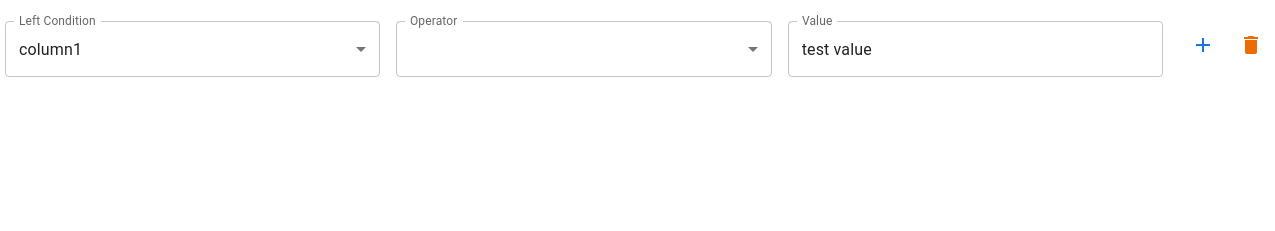
CriteriaRow › Rendering › should render all column options in Left Condition select
Press the mouse on the dropdown named "Left Condition" at (51, 49), box [19, 40, 82, 58]
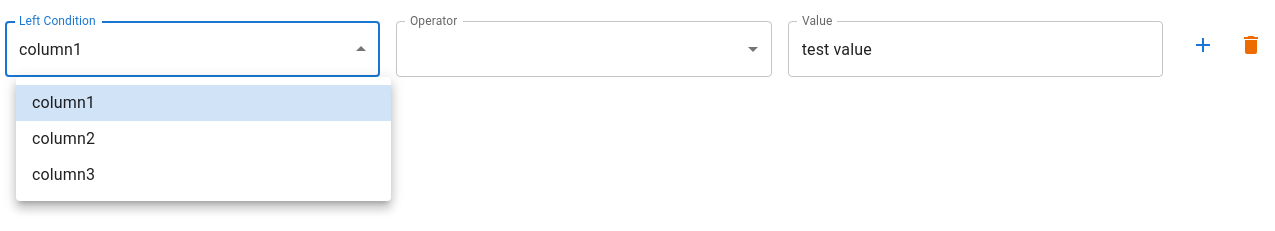
Expected: the option "column1" is shown, [16, 85, 391, 121]
Expected: the option "column2" is shown, [32, 129, 95, 148]
Expected: the option "column3" is shown, [32, 165, 95, 184]
